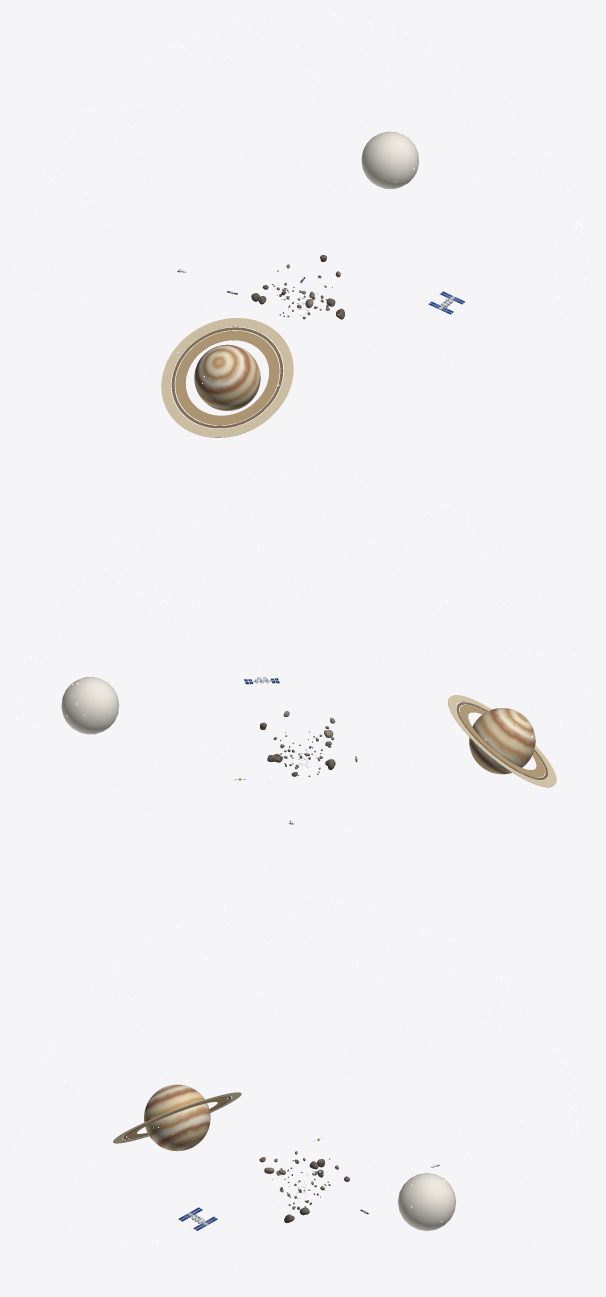
Rendered from zone-5.glb.
3 views of the same model, one above another, from view 1: azimuth 30°, elevation 25°; view 2: azimuth 150°, elevation 25°; view 3: azimuth 270°, elevation 25° (orthographic).
Visible parts, largest first — view 1: SKY_planet_ring_outer, SKY_planet, SKY_planet_ring_inner, SKY_moon, SKY_planet_ring_gap, SKY_stars; view 2: SKY_planet, SKY_moon, SKY_planet_ring_outer, SKY_stars, SKY_planet_ring_inner; view 3: SKY_planet, SKY_moon, SKY_stars, SKY_planet_ring_outer.
Part boxes in pixels (<box>): SKY_planet_ring_outer: <box>161,318,293,437</box>; SKY_planet: <box>194,344,260,410</box>; SKY_planet_ring_inner: <box>175,330,279,425</box>; SKY_moon: <box>361,131,419,188</box>; SKY_planet_ring_gap: <box>171,327,283,428</box>; SKY_stars: <box>14,14,591,395</box>; SKY_planet: <box>469,708,535,774</box>; SKY_moon: <box>61,677,119,734</box>; SKY_planet_ring_outer: <box>448,695,556,787</box>; SKY_stars: <box>14,466,591,867</box>; SKY_planet_ring_inner: <box>459,704,545,777</box>; SKY_planet: <box>144,1084,210,1151</box>; SKY_moon: <box>398,1173,455,1230</box>; SKY_stars: <box>14,896,591,1282</box>; SKY_planet_ring_outer: <box>113,1092,241,1143</box>.
Size of the model in its own units: 1380 by 792 by 1389.
Materials: 18 (10 with a texture image).
